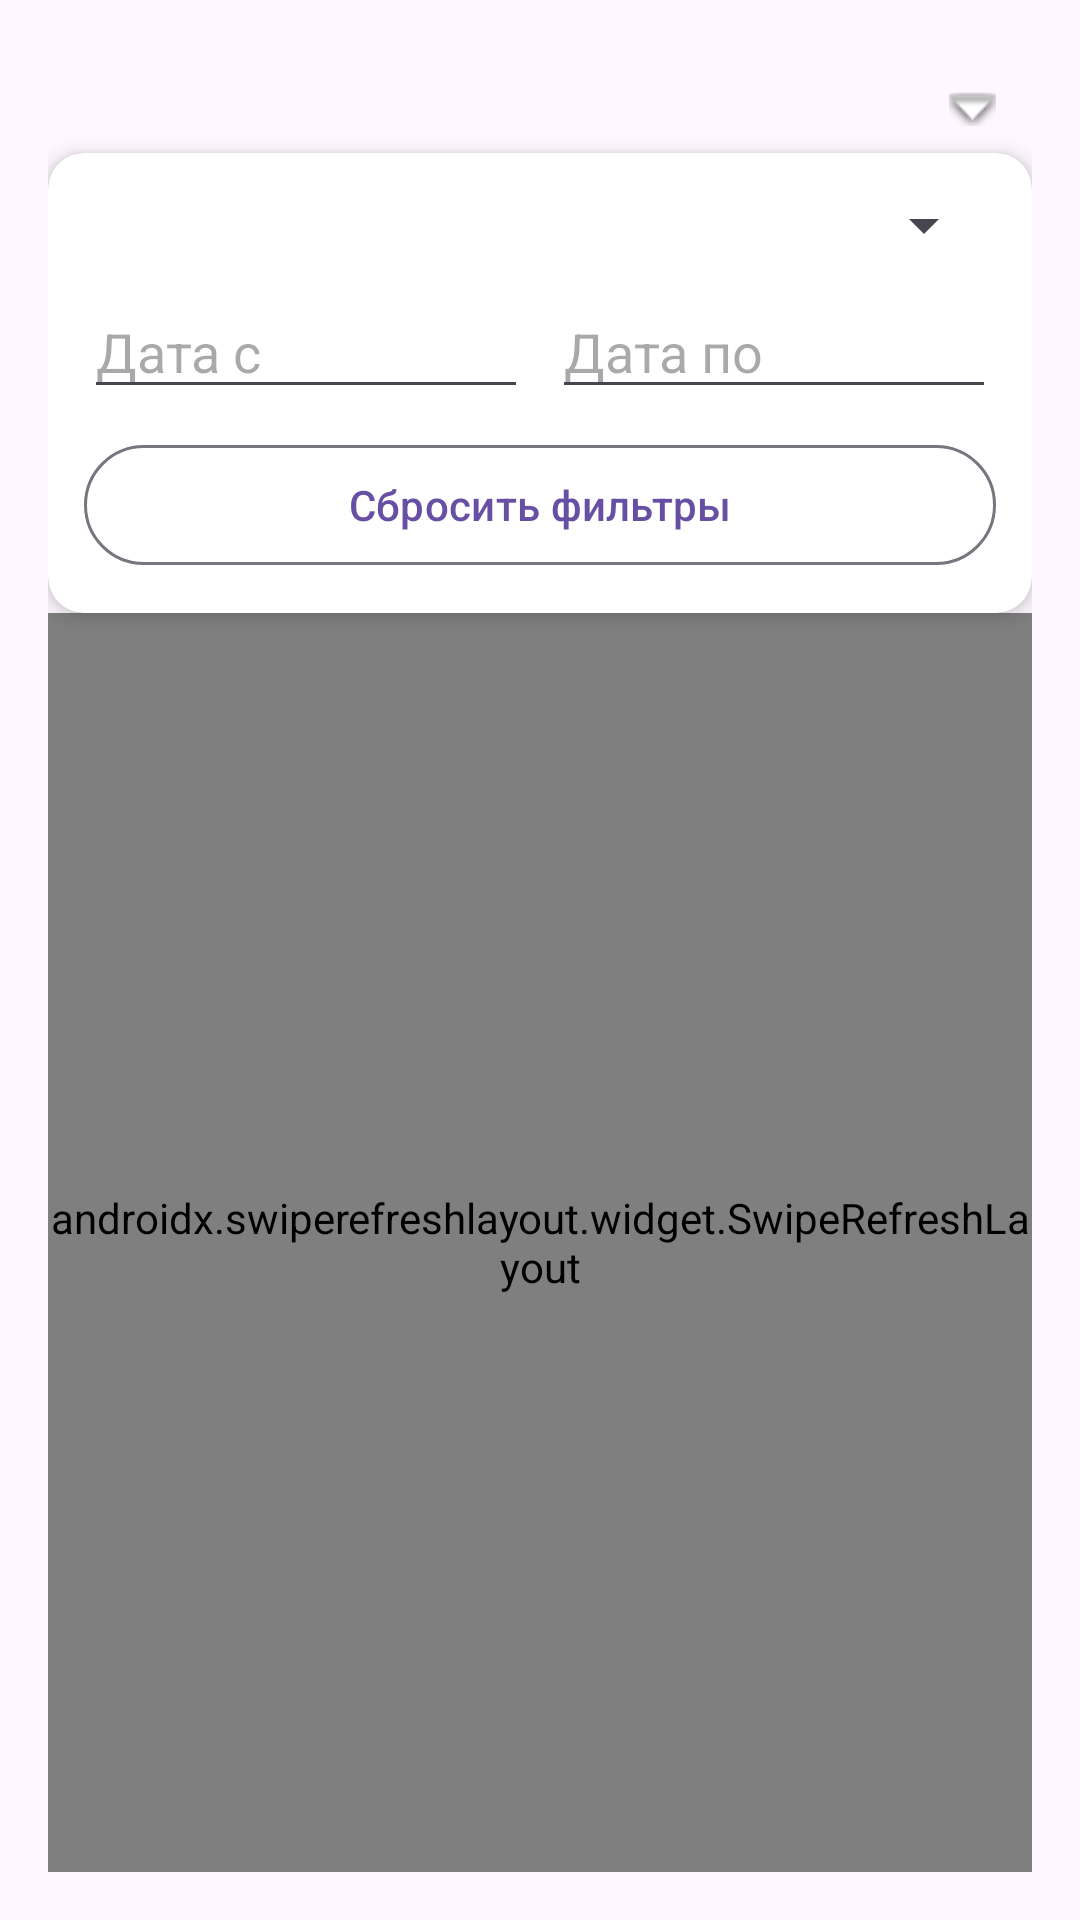

Named icons in this screenshot (1080*1920) and their centers, (x=x, y=y):
Скрыть/показать фильтры: (x=972, y=109)
